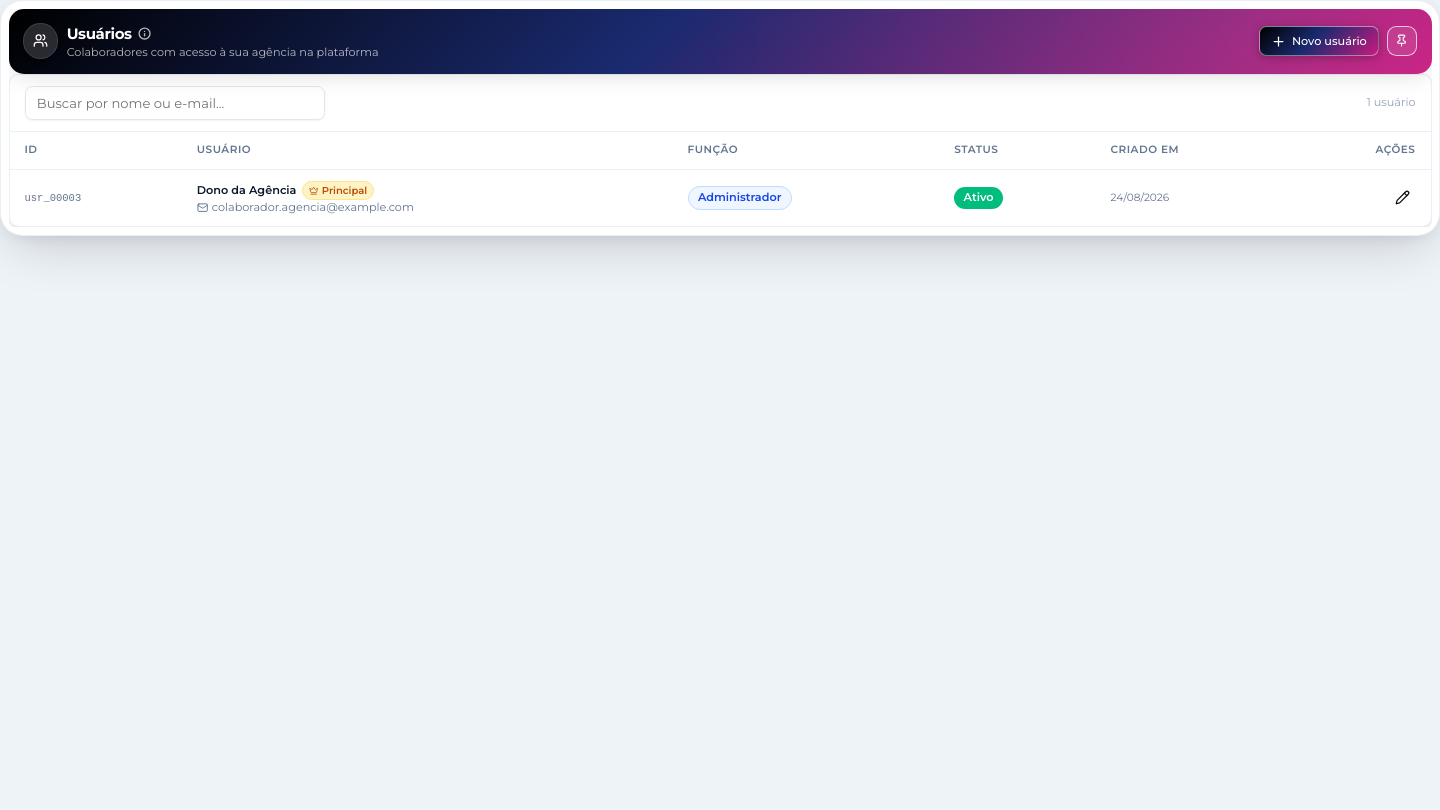
Test case: agencia/usuarios — bloquear/desbloquear colaborador › 10. o usuário principal (owner) não tem a ação de bloqueio disponível
This screenshot has width=1440, height=810.
Check: the text "Dono da Agência" is shown, box x1=197 y1=183 x2=296 y2=197
What coordinates should you click on to do the following:
click the button named "Editar Dono da Agência"
I would click on:
 (1402, 198)
Its box is x1=1389 y1=185 x2=1416 y2=211.
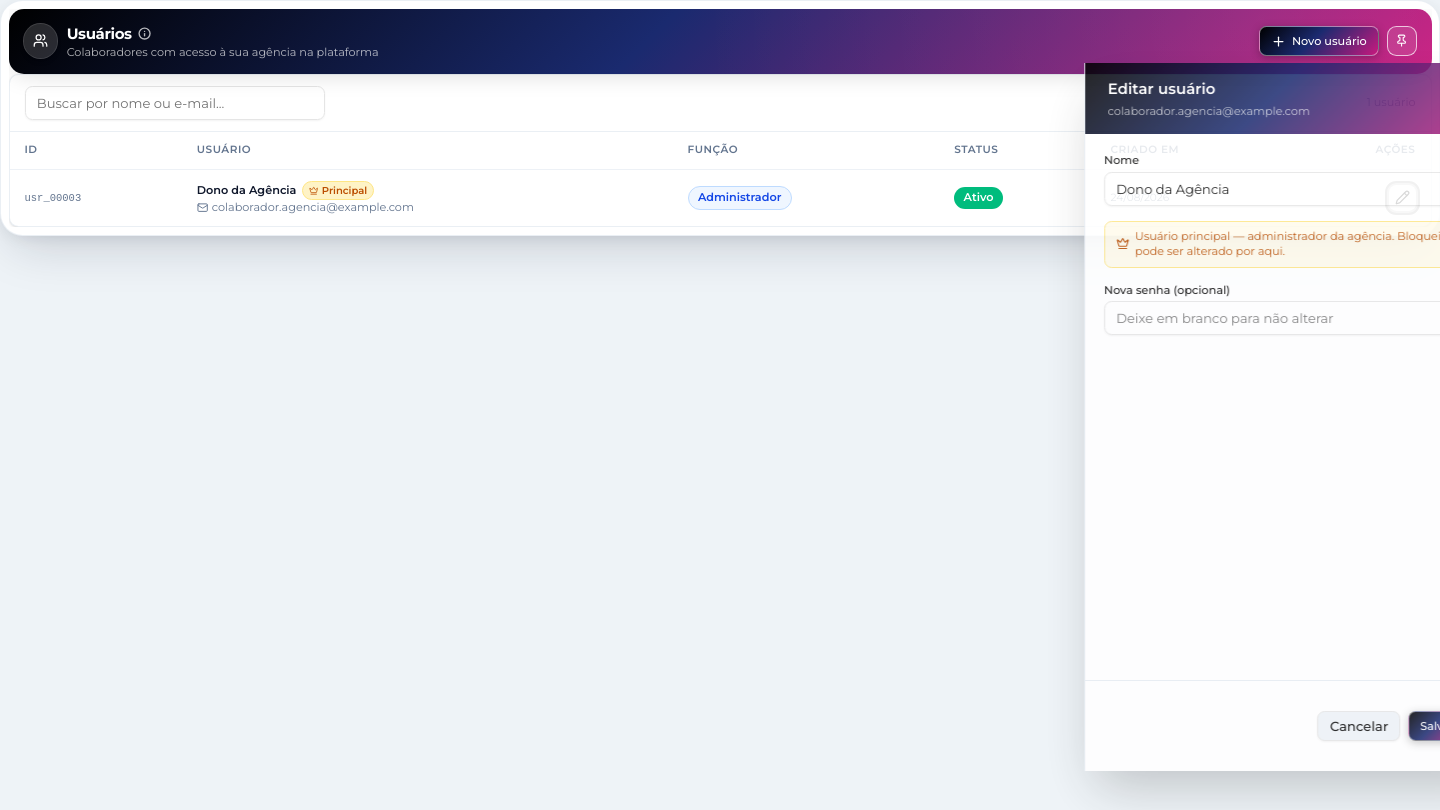
Check: the text "Bloqueio não pode ser alterado" is shown, box x1=1056 y1=220 x2=1437 y2=268
